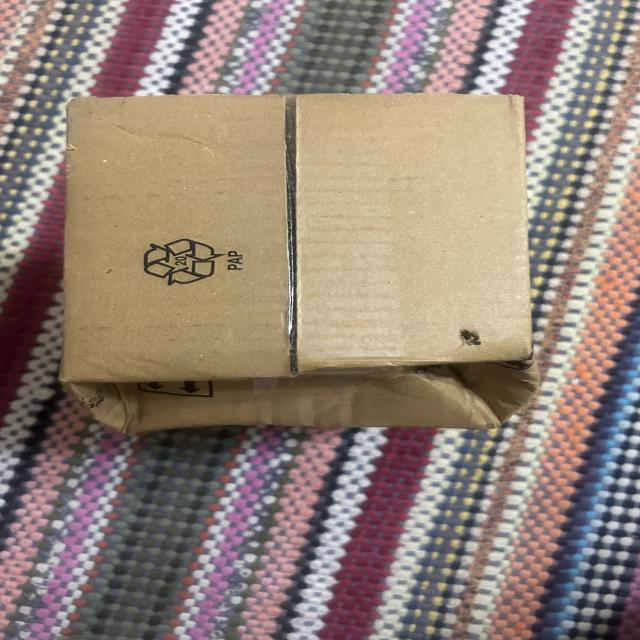damaged: (65, 90, 544, 437), (68, 343, 540, 436)
